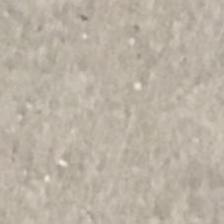Non_Crack: (42, 43, 208, 216)
